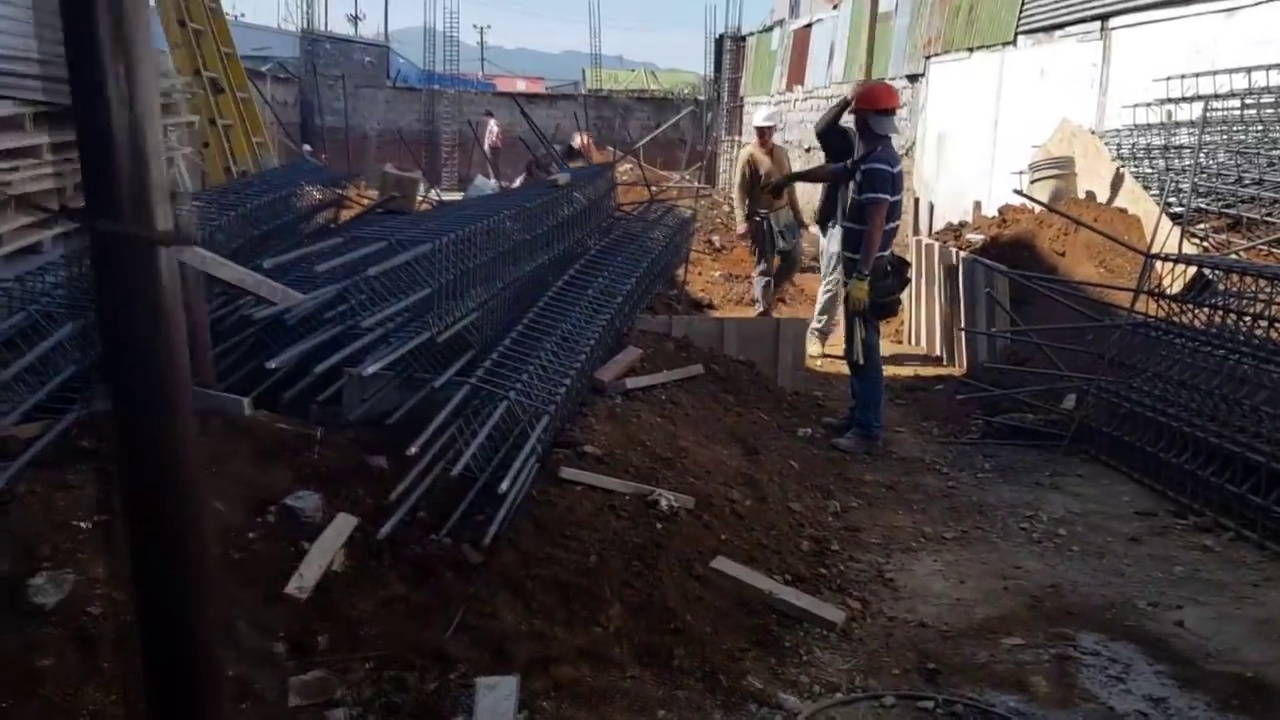helmet: (850, 82, 902, 112), (751, 110, 780, 130)
helmet-off: (480, 107, 495, 125)
helmet-on: (851, 78, 903, 155), (750, 110, 779, 155)
person: (814, 78, 904, 461), (738, 103, 813, 312), (479, 105, 504, 188)
